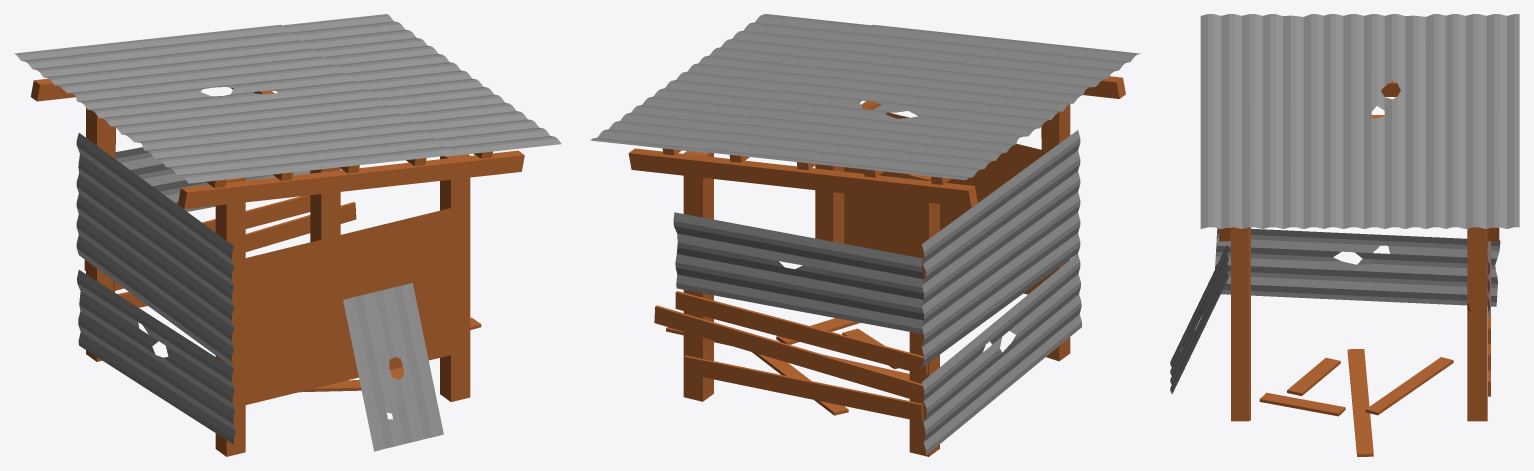
The model's file is minikubo.fbx.
The picture shows the model from 3 angles, left to right: view 1: azimuth 30°, elevation 25°; view 2: azimuth 150°, elevation 25°; view 3: azimuth 270°, elevation 25°; orthographic projection. The views are drawn at different scales.
Parts seen in each view (by area): view 1: Plane.002; view 2: Plane.002; view 3: Plane.002.
Part boxes in pixels (x1=…): Plane.002: x1=14, y1=14, x2=561, y2=456; Plane.002: x1=590, y1=14, x2=1141, y2=456; Plane.002: x1=1170, y1=14, x2=1519, y2=456.
Bounding box in the file's own units: 393 × 299 × 345.
